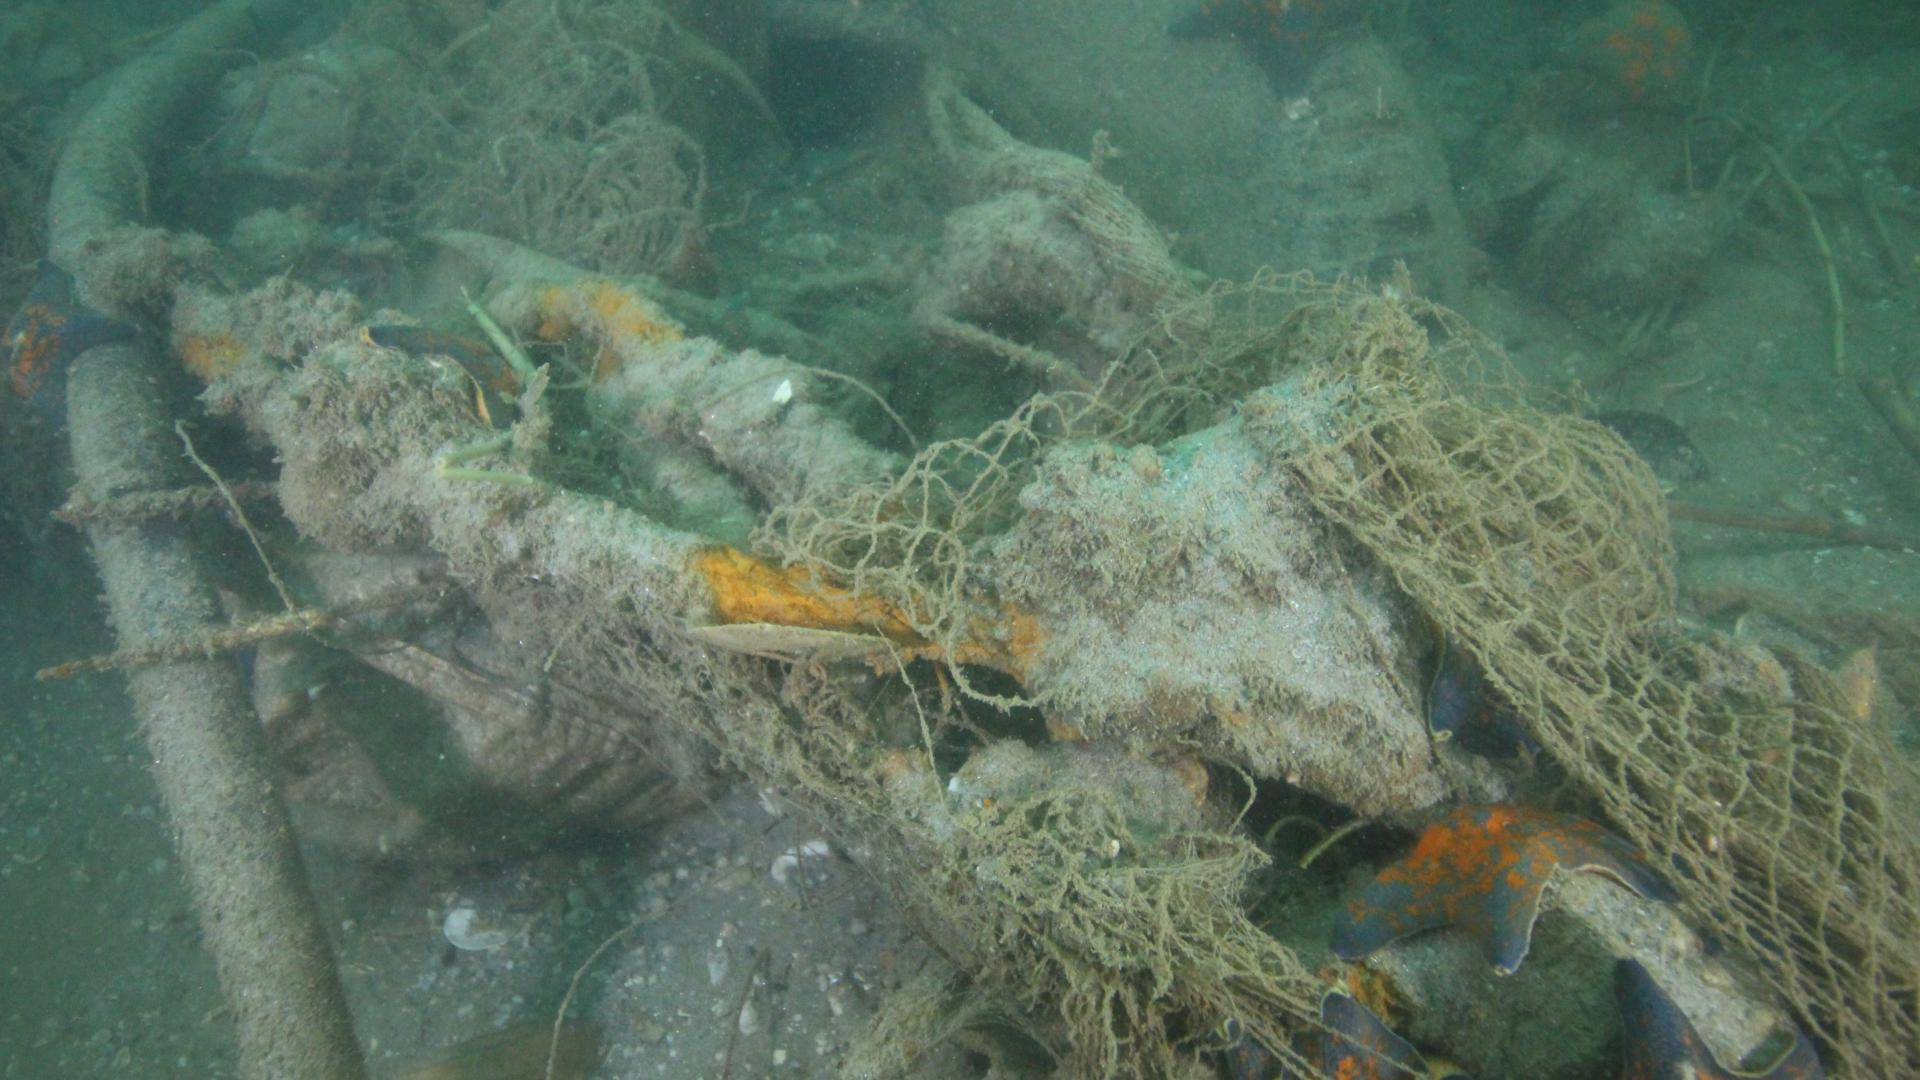fish net: (1303, 262, 1920, 1080)
tire: (760, 0, 1478, 324)
